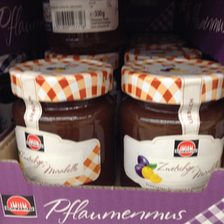jam: (120, 57, 224, 190), (9, 58, 116, 187)
